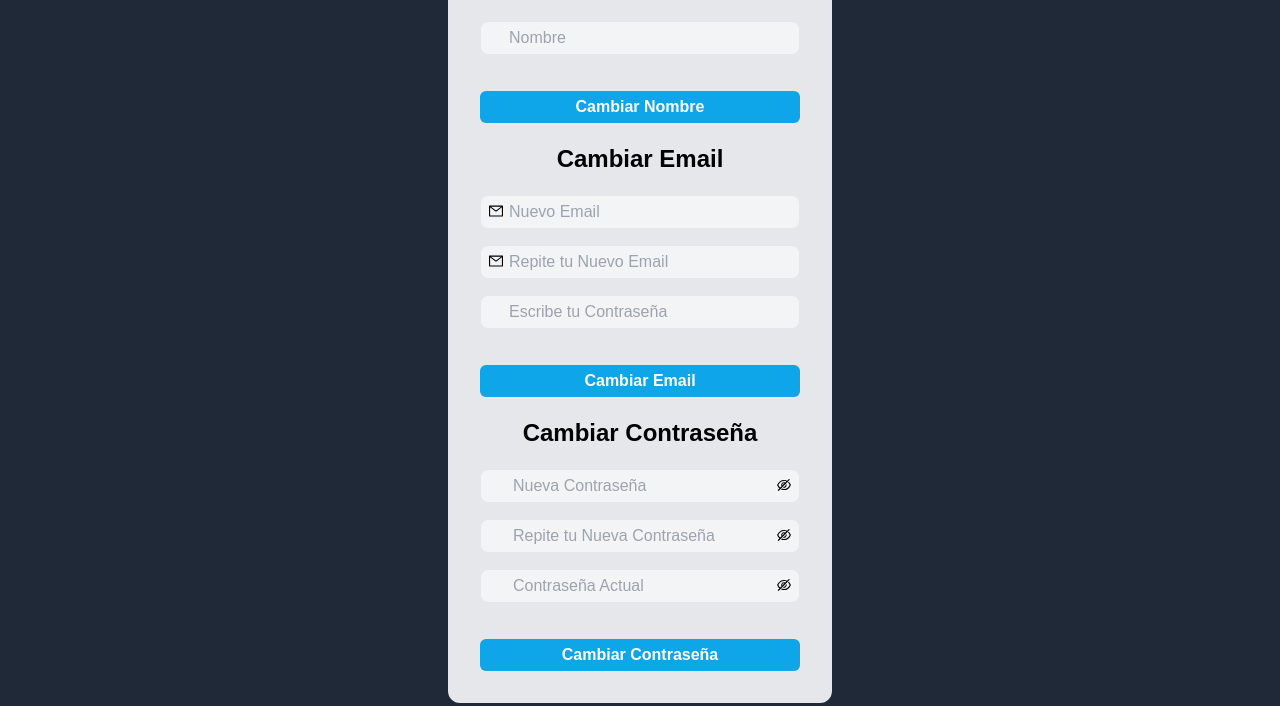
Test case: Error message is shown when set_password fails
(page scrolled)
Click the button "Cambiar Contraseña" at (640, 655), box top-left (480, 639), bottom-right (800, 671)
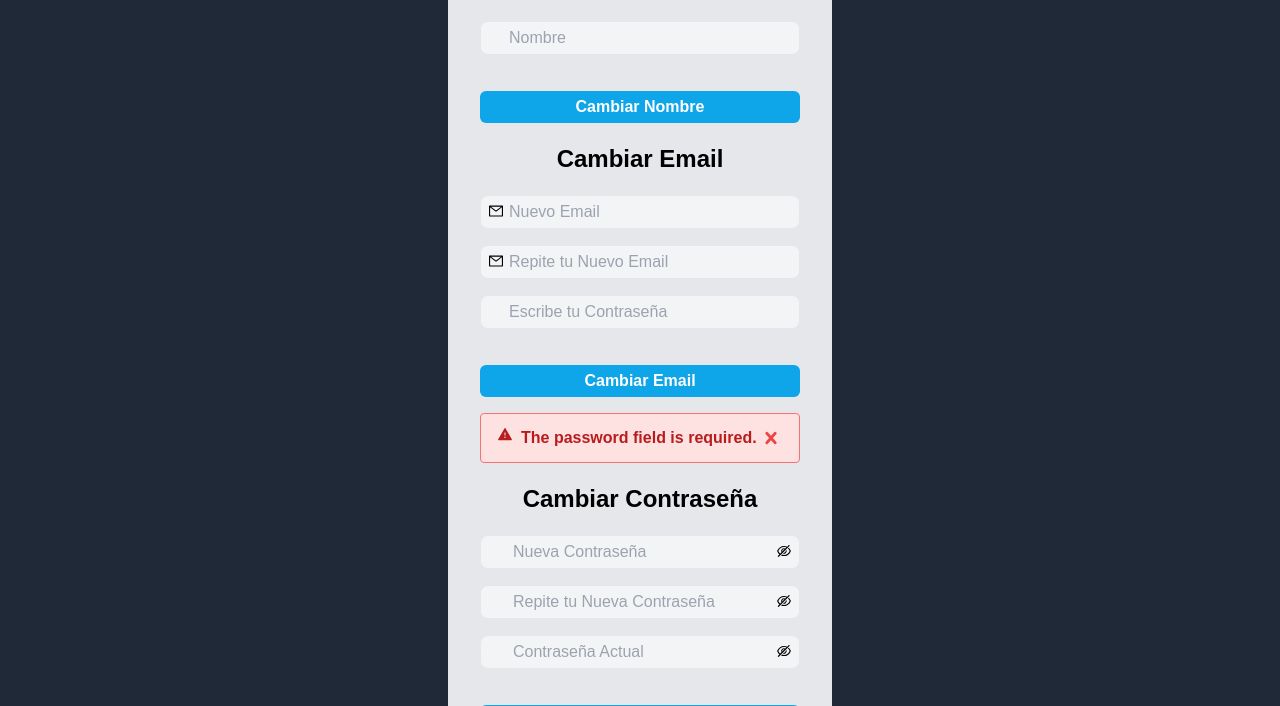
Check: the text "The password field is required." is shown, box top-left (521, 426), bottom-right (757, 450)
